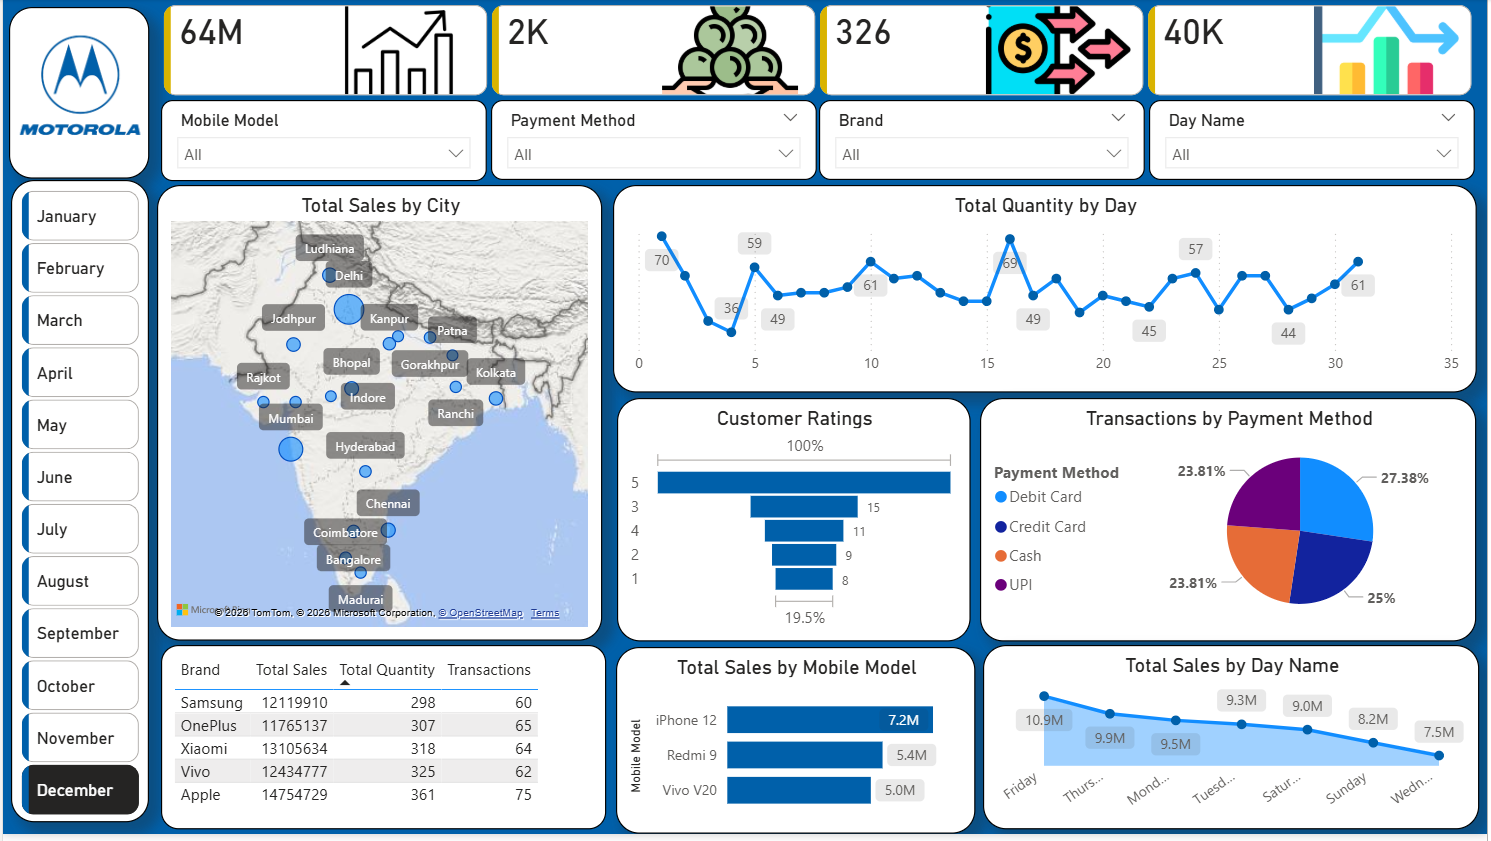

Layout of this report page (visuals, bound fields, positions):
{"tool":"powerbi","page":{"name":"Page 1","canvas":[1280,720],"ordinal":0},"visuals":[{"type":"shape","box":[5.5,6.9,120.8,148.2],"z":0},{"type":"image","box":[9.6,16.5,113.9,116.6],"z":1000},{"type":"shape","box":[6.9,156.4,119.4,554.4],"z":2000},{"type":"advancedSlicerVisual","fields":{"Values":["Sales_Data.Date.Variation.Date Hierarchy.Month"]},"box":[11,160.5,111.1,548.9],"z":3000},{"type":"cardVisual","fields":{"Data":["Sales_Data.Total Sales","Sales_Data.Total Quantity","Sales_Data.Transactions","Sales_Data.Average"]},"box":[134,5.6,1140.1,83.7],"z":4000},{"type":"map","fields":{"Category":["Sales_Data.City"],"Size":["Sales_Data.Total Sales"]},"box":[132.9,160.8,384.1,393.1],"z":5000},{"type":"lineChart","fields":{"Y":["Sales_Data.Total Quantity"],"Category":["Sales_Data.Date.Variation.Date Hierarchy.Month","Sales_Data.Date.Variation.Date Hierarchy.Day"]},"box":[525.9,160.8,744.8,178.7],"z":6000},{"type":"clusteredBarChart","fields":{"Category":["Sales_Data.Mobile Model"],"Y":["Sales_Data.Total Sales"]},"box":[528.3,558.5,310.1,160.5],"z":7000},{"type":"pieChart","fields":{"Category":["Sales_Data.Payment Method"],"Y":["Sales_Data.Transactions"]},"box":[842.5,344.4,428.1,209.9],"z":8000},{"type":"funnel","title":"Customer Ratings","fields":{"Category":["Sales_Data.Customer Ratings"],"Y":["CountNonNull(Sales_Data.Customer Ratings)"]},"box":[529.7,344.4,304.6,209.9],"z":9000},{"type":"areaChart","fields":{"Category":["Sales_Data.Day Name"],"Y":["Sales_Data.Total Sales"]},"box":[845.3,557.1,428.1,159.2],"z":10000},{"type":"tableEx","fields":{"Values":["Sales_Data.Brand","Sales_Data.Total Sales","Sales_Data.Total Quantity","Sales_Data.Transactions"]},"box":[135.8,557.1,384.2,159.2],"z":11000},{"type":"slicer","fields":{"Values":["Sales_Data.Mobile Model"]},"box":[136.2,87.1,281.4,70.3],"z":12000},{"type":"slicer","fields":{"Values":["Sales_Data.Payment Method"]},"box":[421,87.1,281.4,69.2],"z":13000},{"type":"slicer","fields":{"Values":["Sales_Data.Brand"]},"box":[703.5,87.1,281.4,69.2],"z":14000},{"type":"slicer","fields":{"Values":["Sales_Data.Day Name"]},"box":[988.2,87.1,281.4,69.2],"z":15000}]}

Visuals, with their boxes in screenshot pixels (x1, y1, x2, y2), scaled from the page's 1280x720 canvas onto the 1491x841 screenshot:
shape: box(6, 8, 147, 181)
image: box(11, 19, 144, 155)
shape: box(8, 183, 147, 830)
advancedSlicerVisual - Sales_Data.Date.Variation.Date Hierarchy.Month: box(13, 187, 142, 829)
cardVisual - Sales_Data.Total Sales x Sales_Data.Total Quantity: box(156, 7, 1484, 104)
map - Sales_Data.City x Sales_Data.Total Sales: box(155, 188, 602, 647)
lineChart - Sales_Data.Total Quantity x Sales_Data.Date.Variation.Date Hierarchy.Month: box(613, 188, 1480, 397)
clusteredBarChart - Sales_Data.Mobile Model x Sales_Data.Total Sales: box(615, 652, 977, 840)
pieChart - Sales_Data.Payment Method x Sales_Data.Transactions: box(981, 402, 1480, 647)
"Customer Ratings" funnel: box(617, 402, 972, 647)
areaChart - Sales_Data.Day Name x Sales_Data.Total Sales: box(985, 651, 1483, 837)
tableEx - Sales_Data.Brand x Sales_Data.Total Sales: box(158, 651, 606, 837)
slicer - Sales_Data.Mobile Model: box(159, 102, 486, 184)
slicer - Sales_Data.Payment Method: box(490, 102, 818, 183)
slicer - Sales_Data.Brand: box(819, 102, 1147, 183)
slicer - Sales_Data.Day Name: box(1151, 102, 1479, 183)
